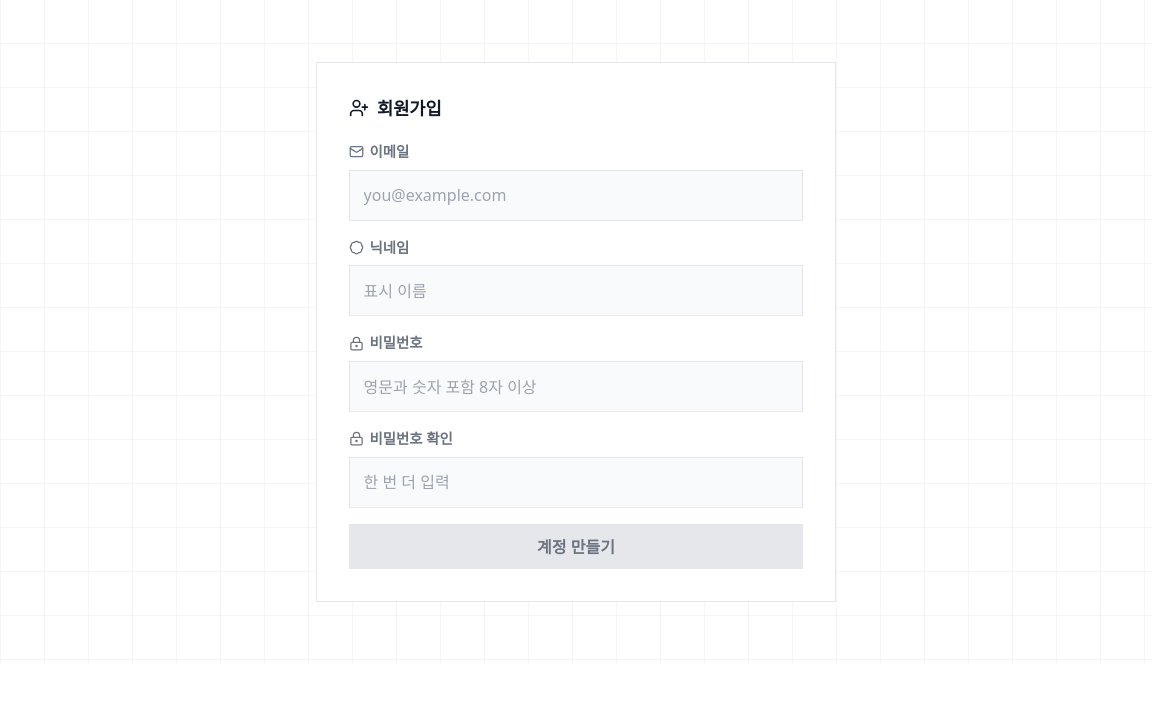
Test: SignupView › submits signup and requests login instead of storing an unverified session
This screenshot has width=1152, height=720.
Type "New@Example.com" into the field with test id "signup-email". click: [576, 195]
box: left=349, top=170, right=803, bottom=221
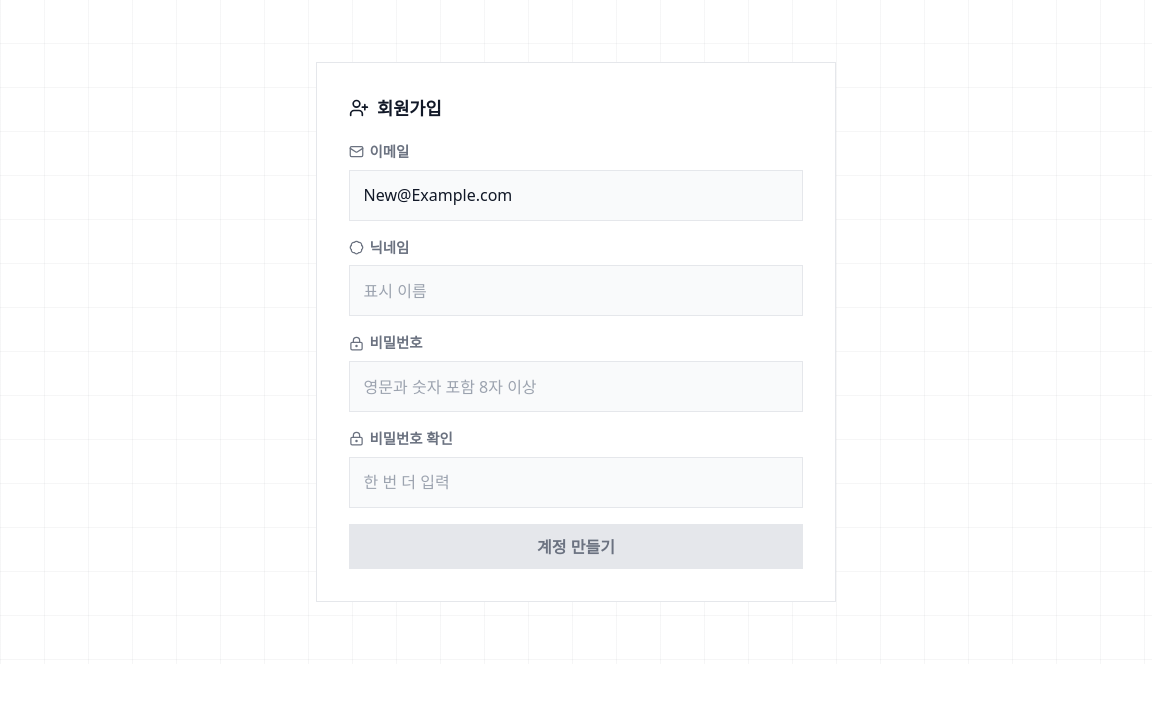
Type "New User" into the field with test id "signup-nickname". click: [576, 291]
box: left=349, top=266, right=803, bottom=316
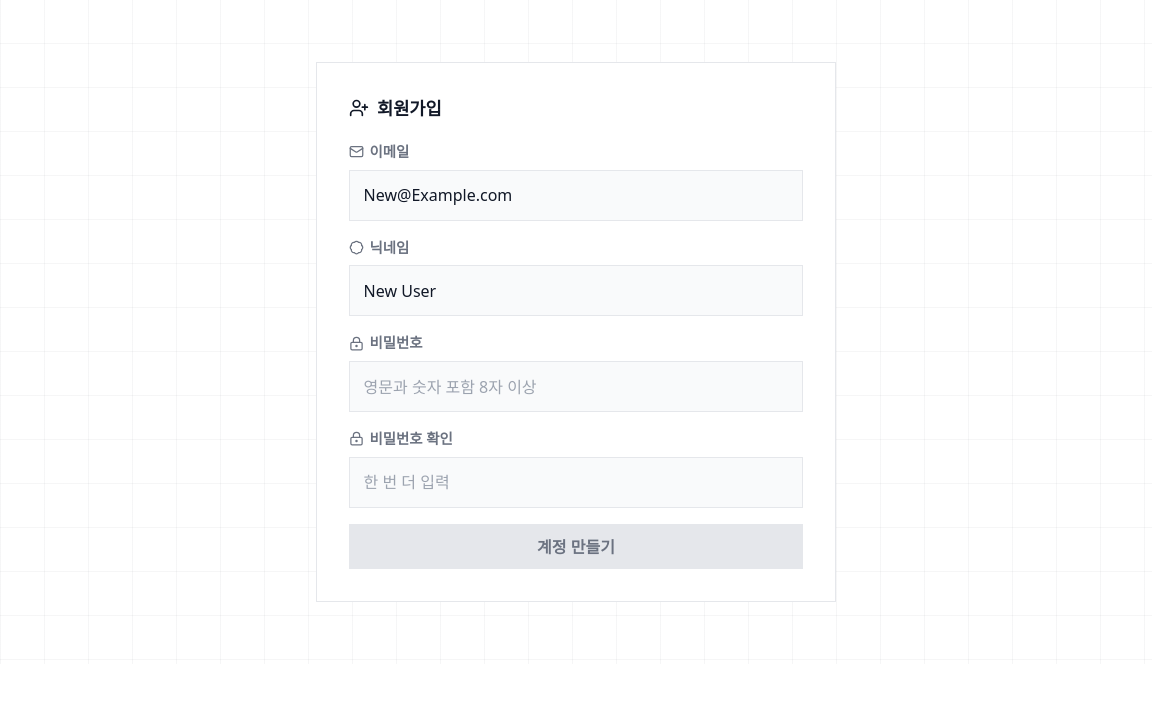
Type "Bench1234" into the password field with test id "signup-password". click: [576, 387]
box: left=349, top=361, right=803, bottom=412
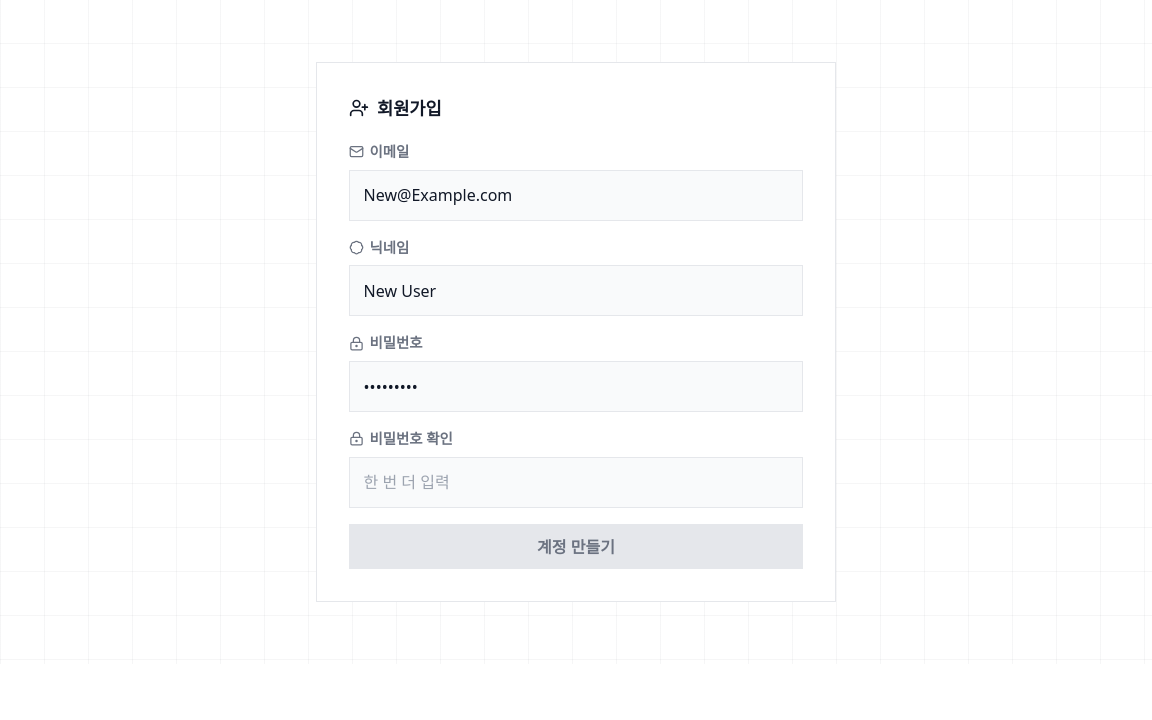
Type "Bench1234" into the password field with test id "signup-confirm-password". click: [576, 482]
box: left=349, top=457, right=803, bottom=508
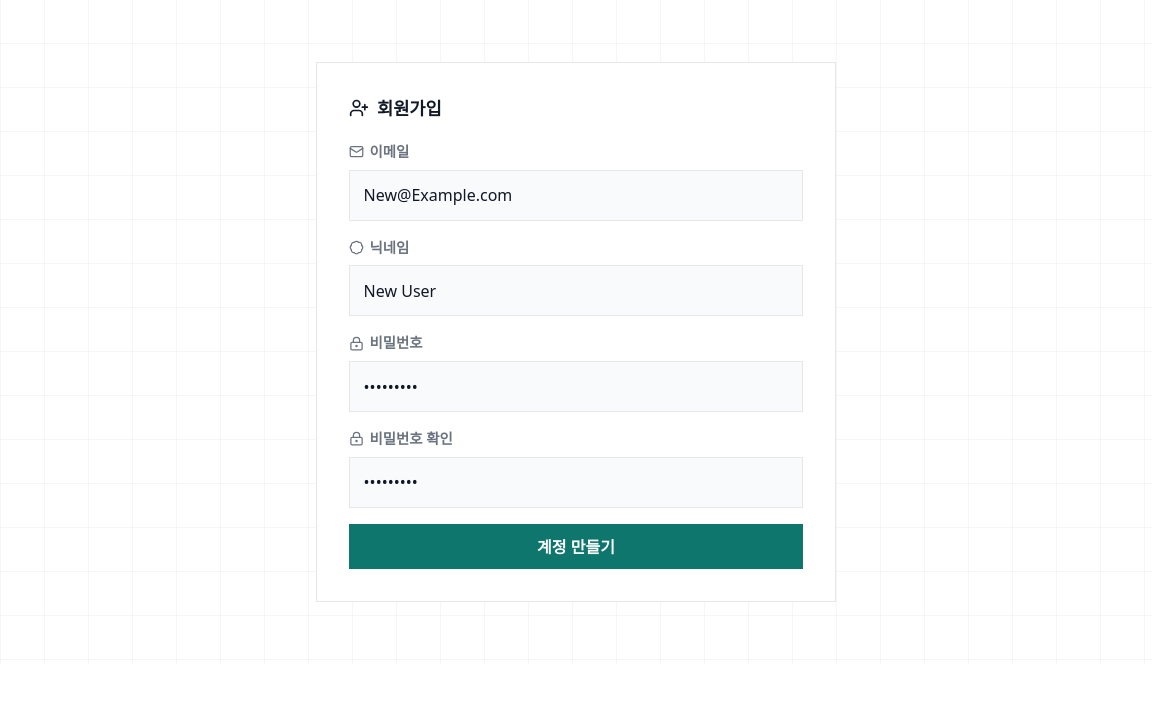
Submit the form with test id "signup-form", box left=317, top=62, right=835, bottom=601
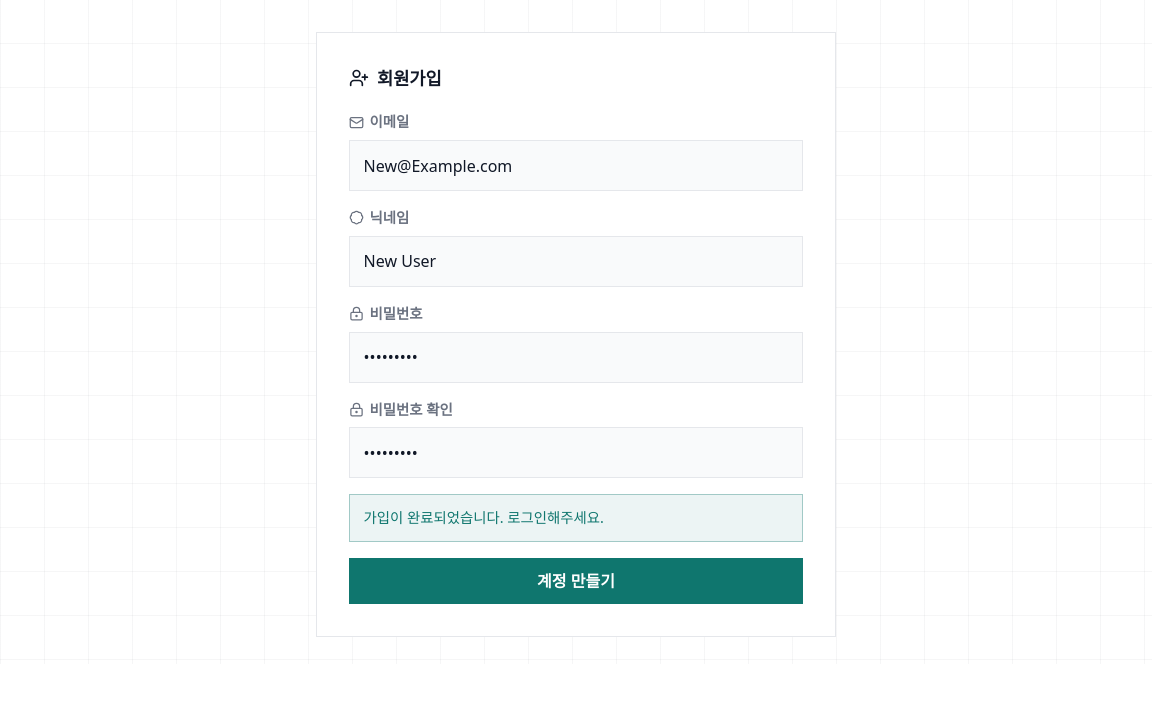
Result: the text with test id "signup-success" shows "가입이 완료" at left=364, top=508, right=604, bottom=527
